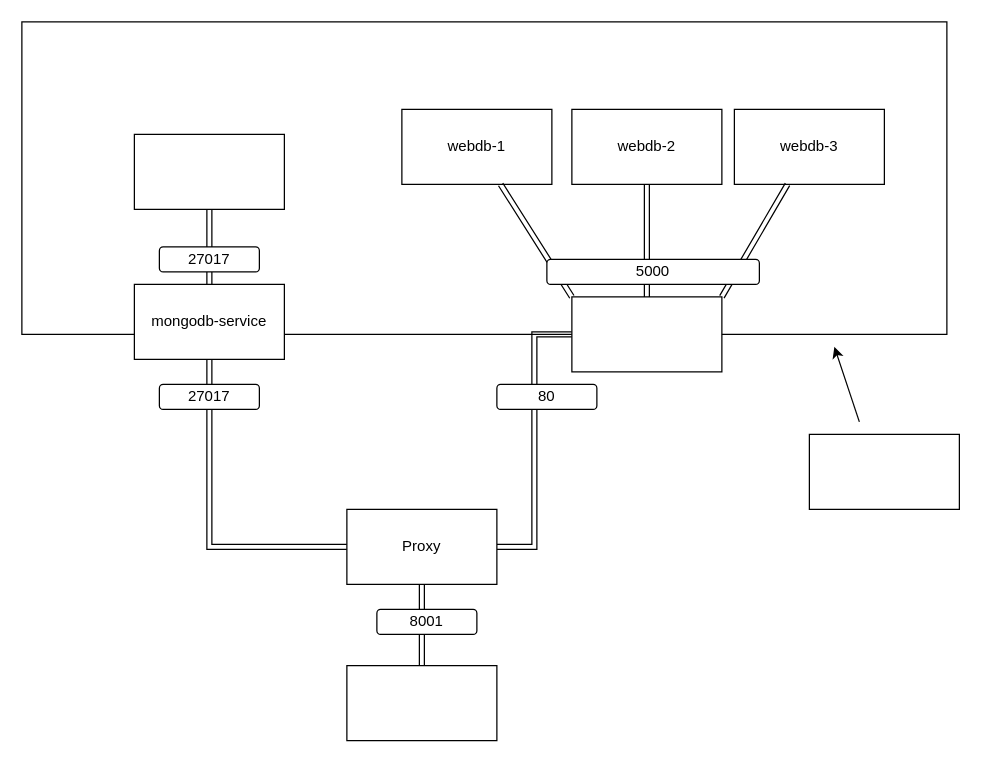
Some shapes in this 981 by 763 pixel diagram are drawn without their labels. Each missing label, with the centre of its shape:
Cluster: the point at 883,471
mongodb: the point at 208,171
PC: the point at 421,702
webdb-service: the point at 646,334
